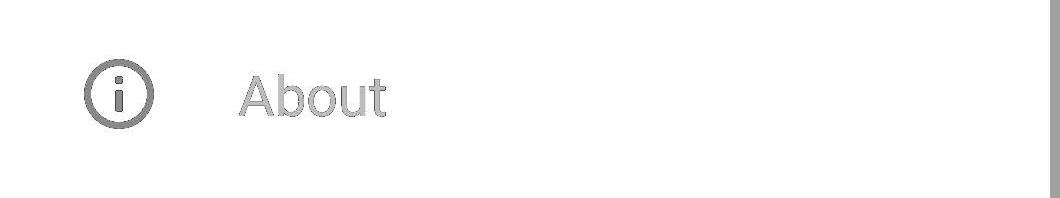CheckedTextView: (1, 1, 1059, 197)
